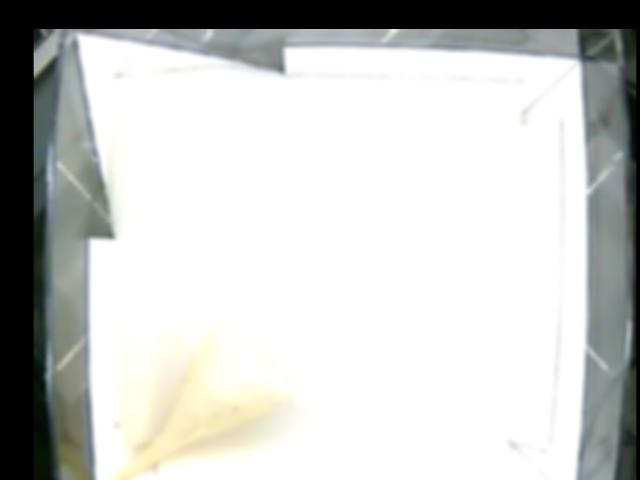Mooli: (148, 323, 297, 452)
